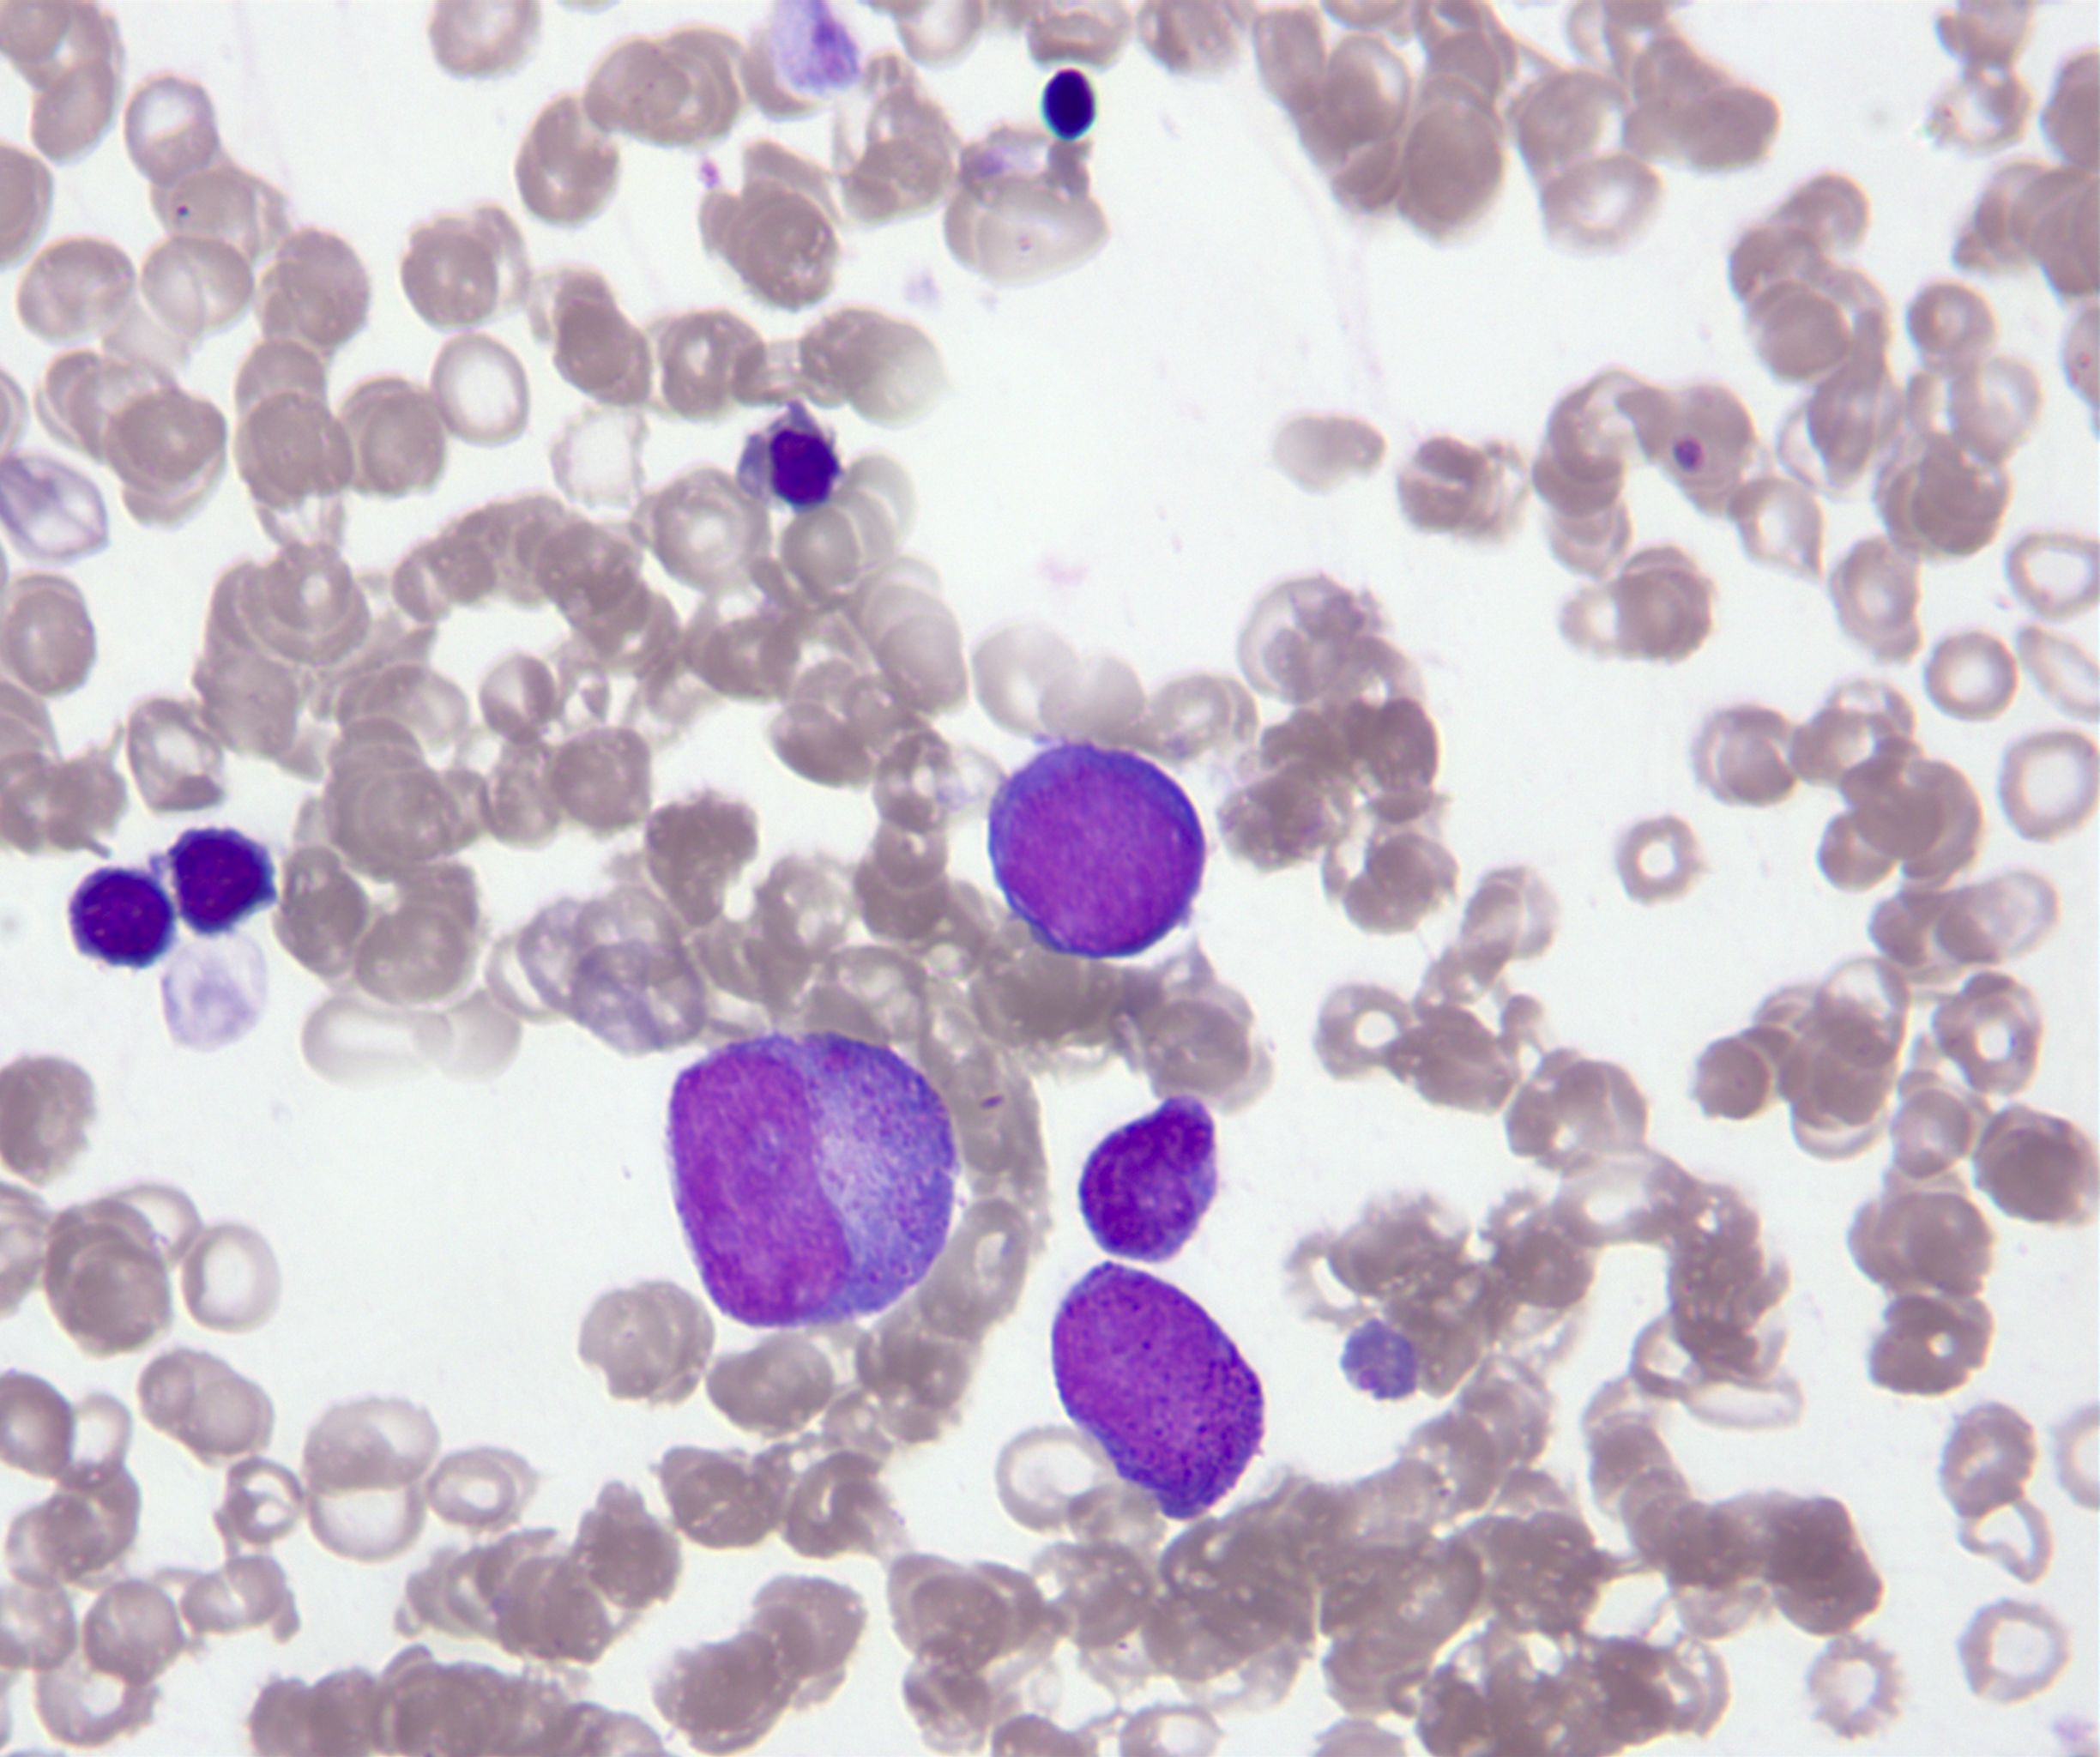1: (985, 745, 1205, 956)
2: (666, 1035, 958, 1330), (1053, 1263, 1265, 1521)
24: (152, 825, 276, 935), (738, 401, 841, 509), (68, 867, 174, 968)
42: (1080, 1092, 1216, 1263)
x: (1043, 68, 1095, 138)
